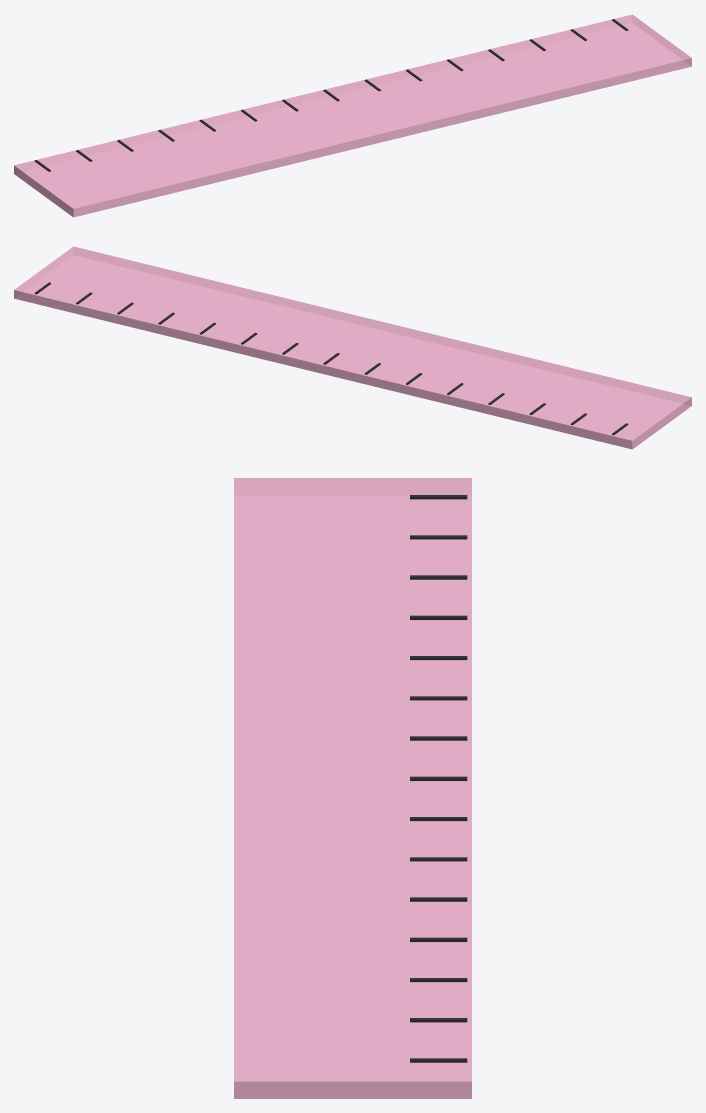
File: plastic_ruler_small.glb
3 views of the same model, one above another, from view 1: azimuth 30°, elevation 25°; view 2: azimuth 150°, elevation 25°; view 3: azimuth 270°, elevation 25° (orthographic). The views are drawn at different scales.
Parts seen in each view (by area): view 1: pr_body; view 2: pr_body; view 3: pr_body.
Boxes of the visible parts, <box> form: pr_body: <box>14,14,691,217</box>; pr_body: <box>14,246,691,449</box>; pr_body: <box>234,478,471,1098</box>.
Size of the model in its own units: 0.15 by 0.00225 by 0.025.
